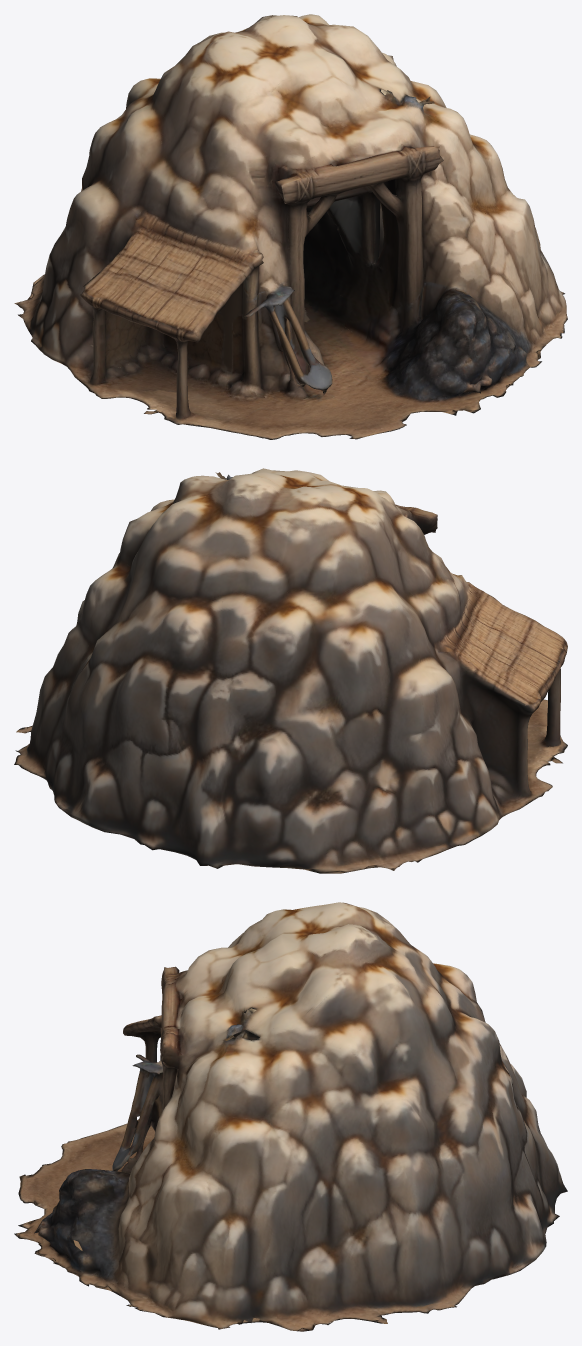
The model's file is Mine (East Asian).fbx.
3 views of the same model, one above another, from view 1: azimuth 30°, elevation 25°; view 2: azimuth 150°, elevation 25°; view 3: azimuth 270°, elevation 25° (orthographic). The views are drawn at different scales.
Parts seen in each view (by area): view 1: Mesh_0; view 2: Mesh_0; view 3: Mesh_0.
Part boxes in pixels (bbox=[...]): Mesh_0: bbox=[14, 14, 567, 439]; Mesh_0: bbox=[14, 468, 567, 873]; Mesh_0: bbox=[14, 902, 567, 1331].
Bounding box in the file's own units: 196 × 120 × 200.
1 material, 1 textured.
